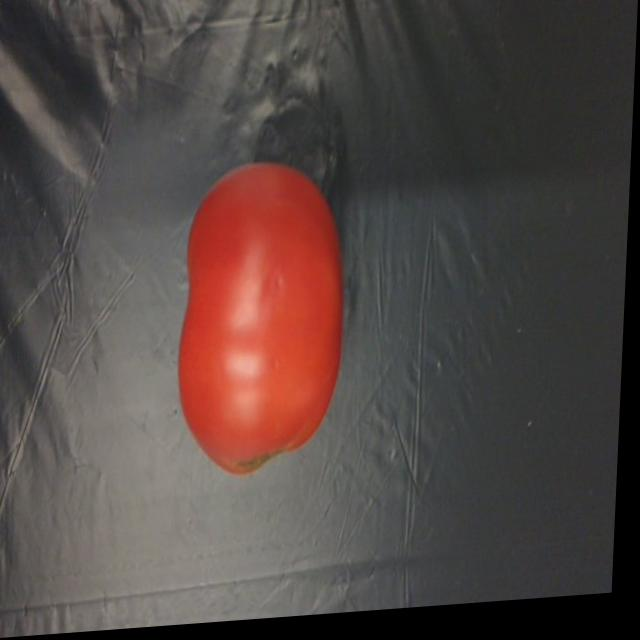kirmizi: (173, 152, 358, 507)
